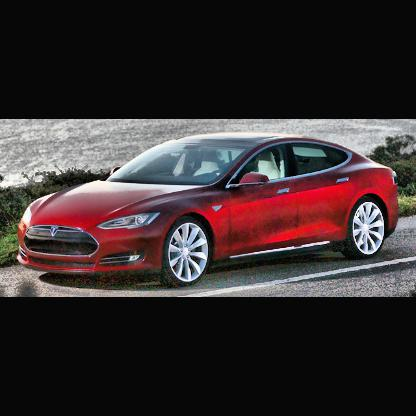Tesla Model S Sedan 2012: (14, 131, 403, 288)
